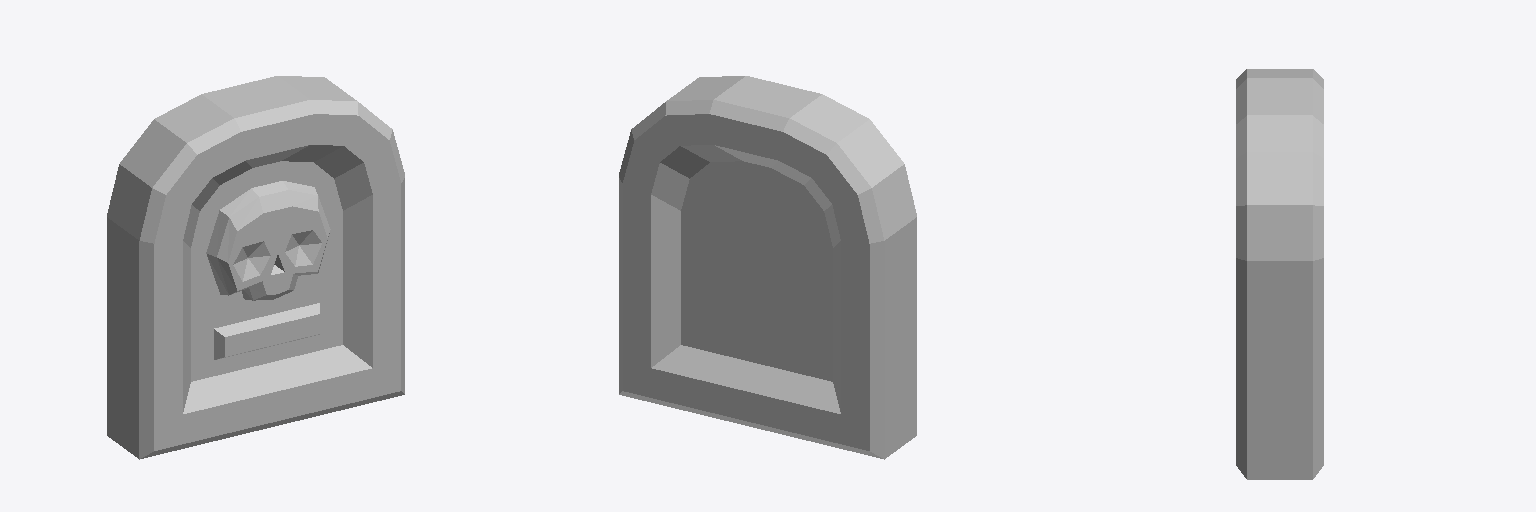
Rendered from gravestone.obj.
3 views of the same model, side by side, from view 1: azimuth 30°, elevation 25°; view 2: azimuth 150°, elevation 25°; view 3: azimuth 270°, elevation 25° (orthographic).
Visible parts, largest first — view 1: gravestone_Cube.101; view 2: gravestone_Cube.101; view 3: gravestone_Cube.101.
Part boxes in pixels (x1,y1,x2,y2): gravestone_Cube.101: (107,76,404,459); gravestone_Cube.101: (619,76,916,459); gravestone_Cube.101: (1236,69,1323,479).
Size of the model in its own units: 1.4 by 1.6 by 0.4.